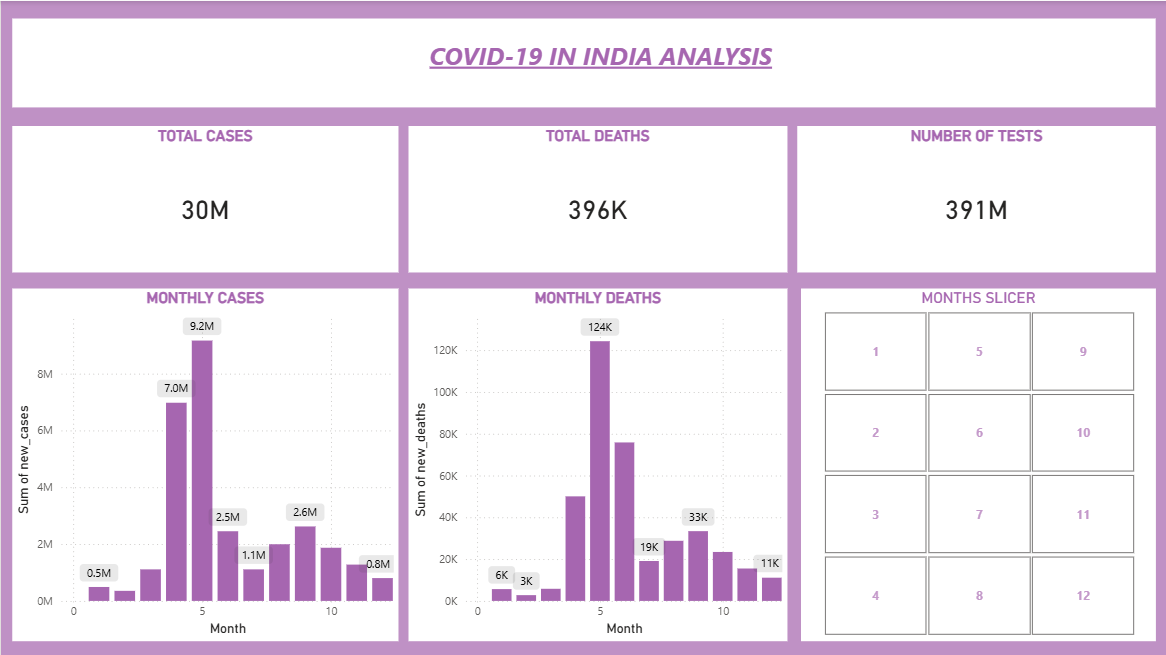

Layout of this report page (visuals, bound fields, positions):
{"tool":"powerbi","page":{"name":"Page 1","canvas":[1280,720],"ordinal":0},"visuals":[{"type":"columnChart","title":"MONTHLY DEATHS","fields":{"Y":["Sum(clean_covid.new_deaths)"],"Category":["clean_covid.Month"]},"box":[447.3,322.5,415.8,380.1],"z":0},{"type":"clusteredColumnChart","title":"MONTHLY CASES","fields":{"Y":["Sum(clean_covid.new_cases)"],"Category":["clean_covid.Month"]},"box":[12.3,322.5,424,380.1],"z":1000},{"type":"card","title":"TOTAL CASES","fields":{"Values":["Sum(clean_covid.new_cases)"]},"box":[12.3,137.2,424,160.5],"z":2000},{"type":"card","title":"TOTAL DEATHS","fields":{"Values":["Sum(clean_covid.new_deaths)"]},"box":[447.3,137.2,415.8,160.5],"z":3000},{"type":"card","title":"NUMBER OF TESTS","fields":{"Values":["Sum(clean_covid.new_tests)"]},"box":[874.1,137.2,393.8,160.5],"z":4000},{"type":"slicer","title":"MONTHS  SLICER","fields":{"Values":["clean_covid.Month"]},"box":[878.2,322.5,389.7,380.1],"z":5001},{"type":"textbox","box":[12.3,19.2,1255.6,97.4],"z":5002}]}

Visuals, with their boxes in screenshot pixels (x1, y1, x2, y2), scaled from the page's 1280x720 canvas onto the 1166x655 screenshot:
"MONTHLY DEATHS" columnChart: pyautogui.locateOnScreen(407, 293, 786, 639)
"MONTHLY CASES" clusteredColumnChart: pyautogui.locateOnScreen(11, 293, 397, 639)
"TOTAL CASES" card: pyautogui.locateOnScreen(11, 125, 397, 271)
"TOTAL DEATHS" card: pyautogui.locateOnScreen(407, 125, 786, 271)
"NUMBER OF TESTS" card: pyautogui.locateOnScreen(796, 125, 1155, 271)
"MONTHS  SLICER" slicer: pyautogui.locateOnScreen(800, 293, 1155, 639)
textbox: pyautogui.locateOnScreen(11, 17, 1155, 106)
